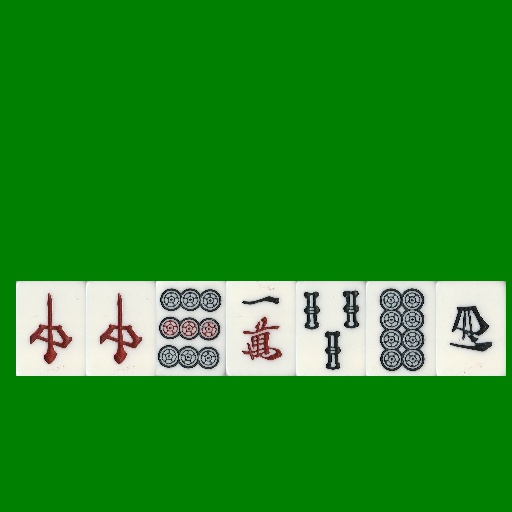1m: (226, 281, 296, 376)
3s: (296, 281, 366, 376)
8p: (366, 281, 436, 376)
9p: (156, 281, 226, 376)
tyun: (16, 281, 86, 376), (86, 281, 156, 376)
west: (436, 281, 506, 376)
